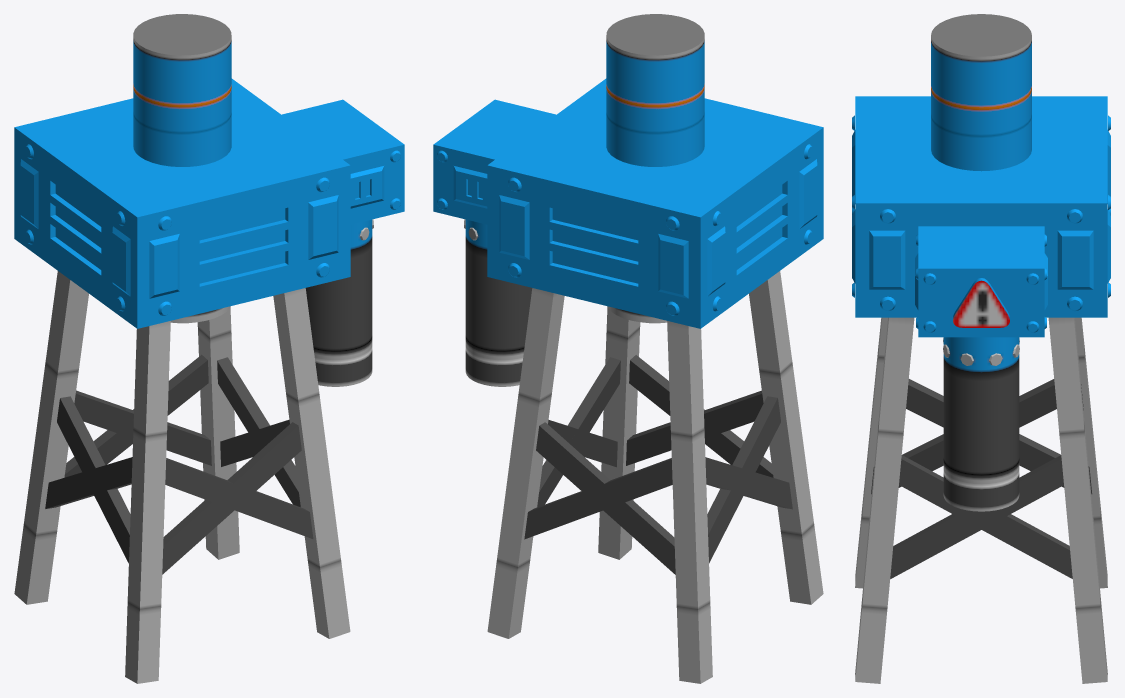
File: derrick1.gltf
3 views of the same model, side by side, from view 1: azimuth 30°, elevation 25°; view 2: azimuth 150°, elevation 25°; view 3: azimuth 270°, elevation 25° (orthographic). The views are drawn at different scales.
Parts seen in each view (by area): view 1: derrick1; view 2: derrick1; view 3: derrick1.
Boxes of the visible parts, left/top/right/bottom form: derrick1: left=14, top=14, right=404, bottom=683; derrick1: left=433, top=14, right=823, bottom=683; derrick1: left=852, top=14, right=1110, bottom=683.
Size of the model in its own units: 14.08 by 25.58 by 10.05.
